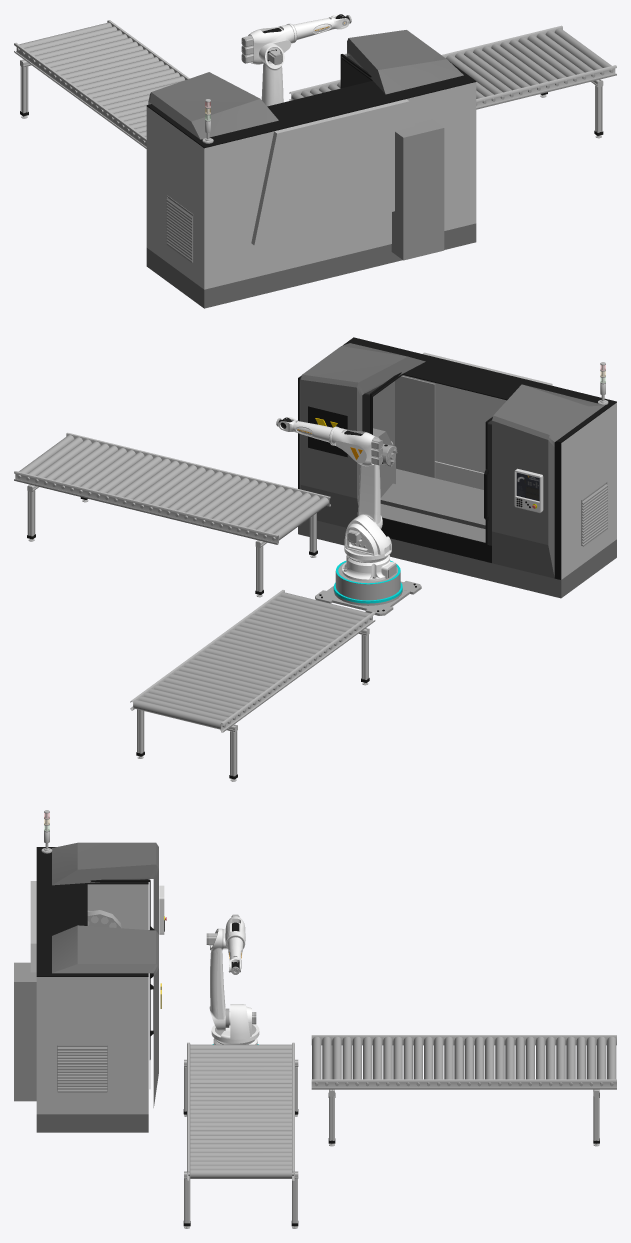
3 renders of one model, top to bottom at view 1: azimuth 30°, elevation 25°; view 2: azimuth 150°, elevation 25°; view 3: azimuth 270°, elevation 25°, orthographic. The views are drawn at different scales.
Parts seen in each view (by area): view 1: Mesh [02sg], Mesh [02vg], Mesh [02rg], Mesh [03Rg], Mesh [03gg], Mesh [03dg], Mesh [03Jg], Mesh [035g], Mesh [033g], Mesh [03Hg], Mesh [01Qg], Mesh [000g] (+40 smaller); view 2: Mesh [02rg], Mesh [02sg], Mesh [03fg], Mesh [03Dg], Mesh [03gg], Mesh [02zg], Mesh [03Rg], Mesh [03dg], Mesh [01Rg], Mesh [03Jg], Mesh [035g], Mesh [03ag] (+22 smaller); view 3: Mesh [02qg], Mesh [03Rg], Mesh [001g], Mesh [035g], Mesh [03dg], Mesh [03Sg], Mesh [02rg], Mesh [03gg], Mesh [03Jg], Mesh [03Kg], Mesh [000g], Mesh [04yg] (+8 smaller).
Part boxes in pixels (<box>): Mesh [02sg]: <box>204,82,476,289</box>; Mesh [02vg]: <box>254,101,415,245</box>; Mesh [02rg]: <box>146,106,204,289</box>; Mesh [03Rg]: <box>391,119,444,260</box>; Mesh [03gg]: <box>146,223,476,308</box>; Mesh [03dg]: <box>267,80,399,129</box>; Mesh [03Jg]: <box>151,72,259,121</box>; Mesh [035g]: <box>349,30,446,69</box>; Mesh [033g]: <box>378,59,463,94</box>; Mesh [03Hg]: <box>191,99,278,139</box>; Mesh [01Qg]: <box>476,65,616,109</box>; Mesh [000g]: <box>14,42,146,148</box>; Mesh [02rg]: <box>561,402,616,579</box>; Mesh [02sg]: <box>373,375,506,489</box>; Mesh [03fg]: <box>380,468,485,542</box>; Mesh [03Dg]: <box>492,420,548,544</box>; Mesh [03gg]: <box>298,518,616,598</box>; Mesh [02zg]: <box>300,379,356,498</box>; Mesh [03Rg]: <box>395,376,435,477</box>; Mesh [03dg]: <box>403,355,541,400</box>; Mesh [01Rg]: <box>14,471,278,544</box>; Mesh [03Jg]: <box>493,384,588,434</box>; Mesh [035g]: <box>302,346,407,382</box>; Mesh [03ag]: <box>381,517,486,561</box>; Mesh [02qg]: <box>36,977,148,1114</box>; Mesh [03Rg]: <box>14,962,36,1101</box>; Mesh [001g]: <box>311,1079,616,1089</box>; Mesh [035g]: <box>77,925,155,963</box>; Mesh [03dg]: <box>36,883,87,939</box>; Mesh [03Sg]: <box>57,1045,107,1092</box>; Mesh [02rg]: <box>87,884,148,929</box>; Mesh [03gg]: <box>36,1114,148,1132</box>; Mesh [03Jg]: <box>77,842,155,869</box>; Mesh [03Kg]: <box>52,864,155,885</box>; Mesh [000g]: <box>311,1035,616,1045</box>; Mesh [04yg]: <box>211,1004,259,1044</box>.
Size of the model in its own units: 5.42 by 2.62 by 5.93.
28 materials, 1 textured.
